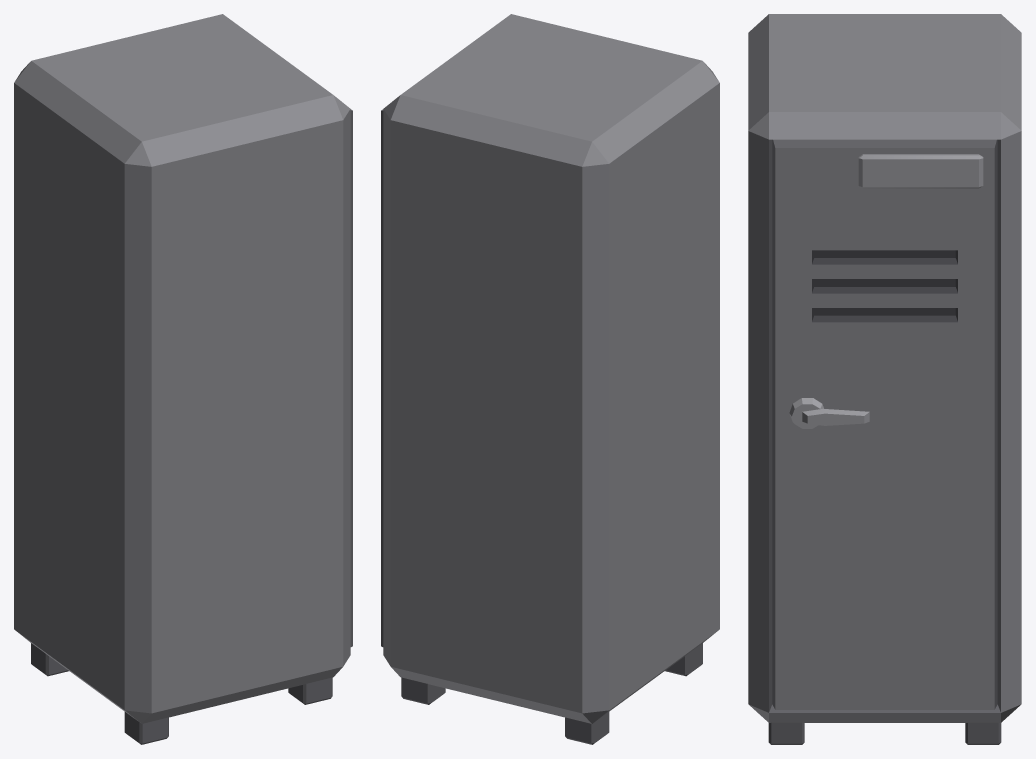
The model's file is locker1.fbx.
The picture shows the model from 3 angles, left to right: view 1: azimuth 30°, elevation 25°; view 2: azimuth 150°, elevation 25°; view 3: azimuth 270°, elevation 25°; orthographic projection. The views are drawn at different scales.
Visible parts, largest first — view 1: locker1; view 2: locker1; view 3: locker1.
Part boxes in pixels (x1,y1,x2,y2): locker1: [14, 14, 352, 744]; locker1: [381, 14, 719, 744]; locker1: [748, 14, 1021, 744].
Size of the model in its own units: 43.07 by 102 by 39.82.
1 material, 1 textured.
